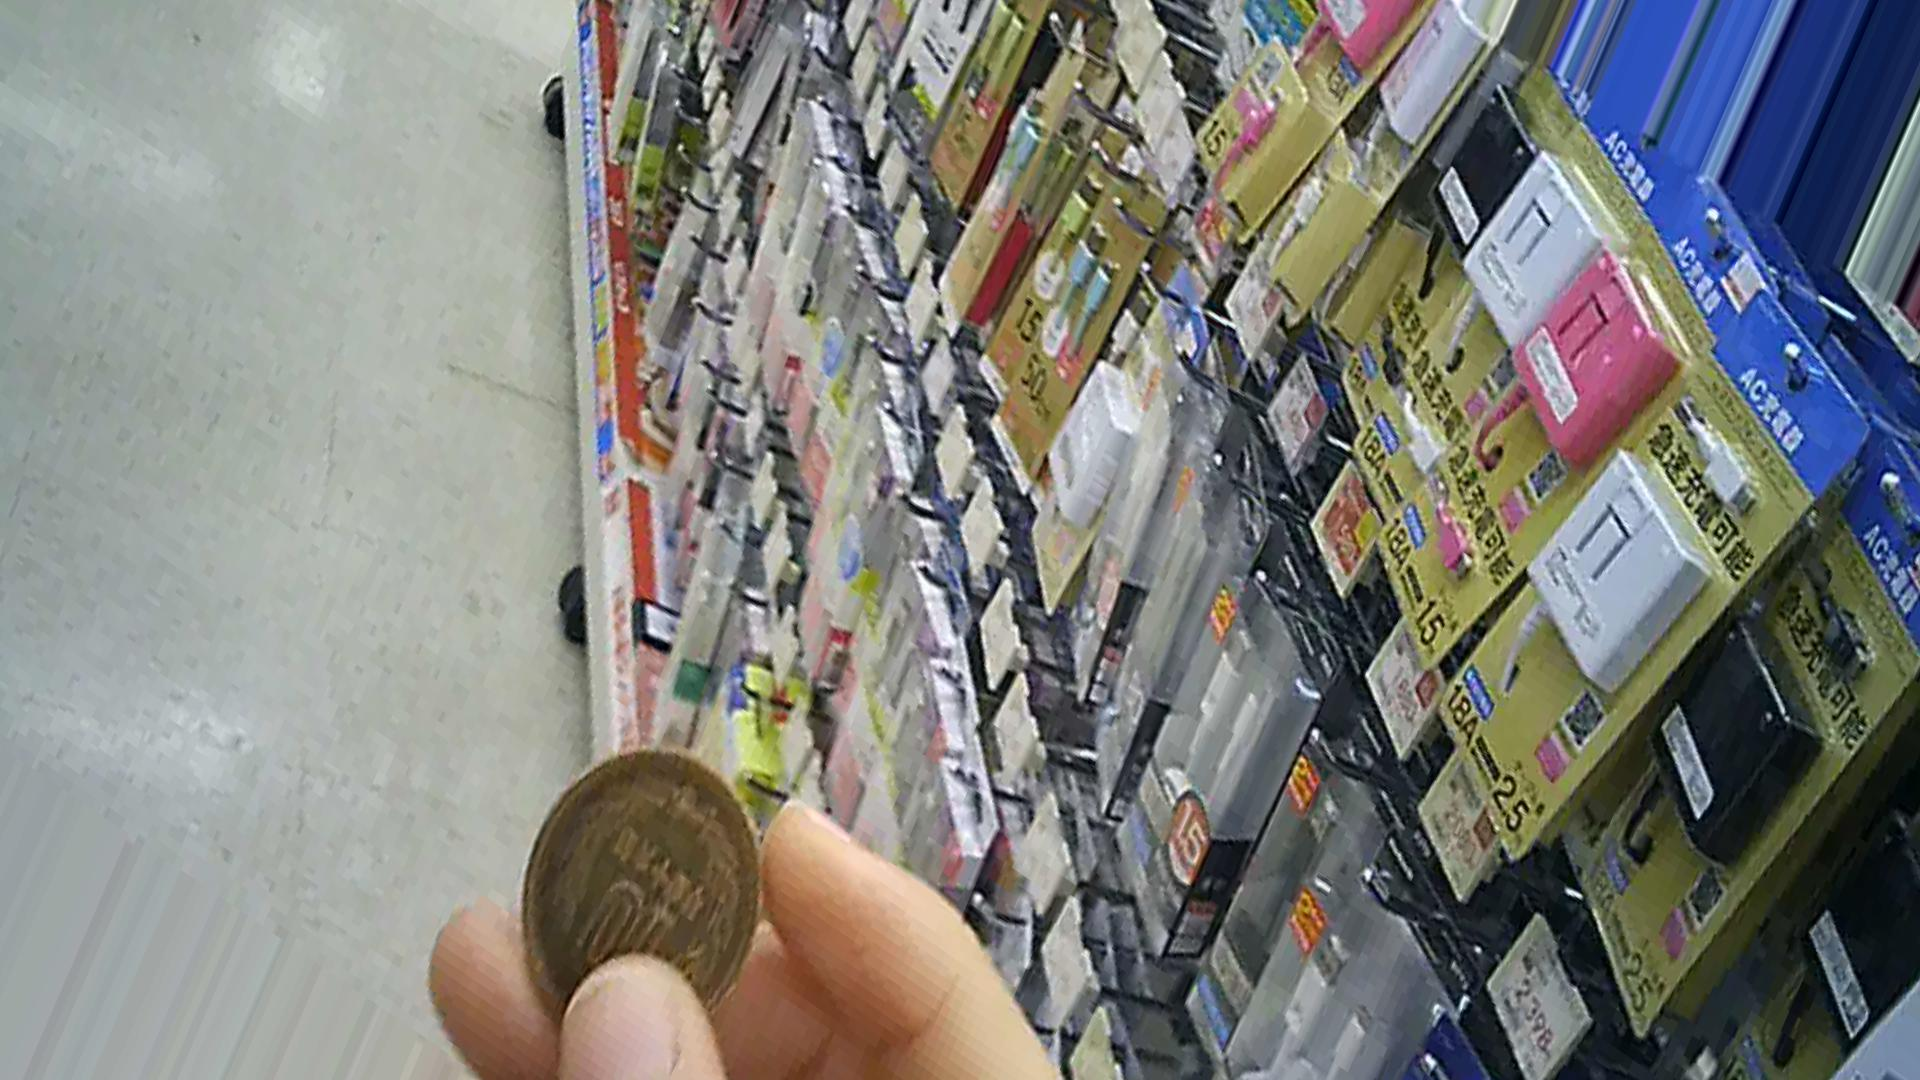10 Yen: (491, 731, 762, 1050)
